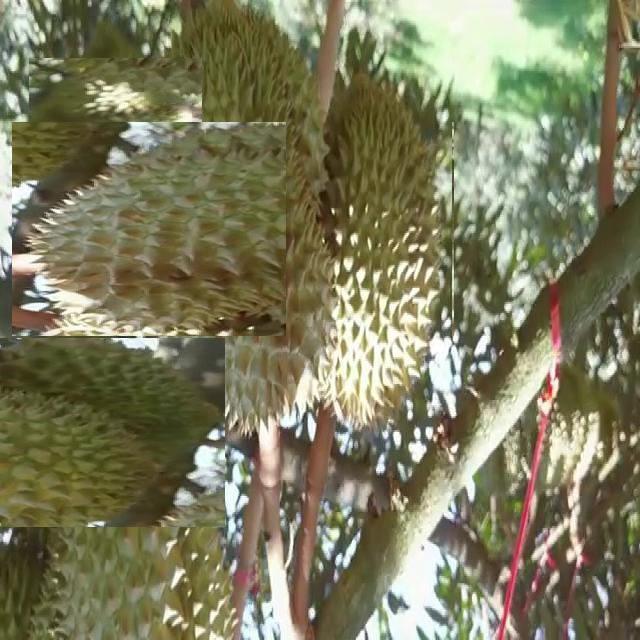durian: (69, 65, 398, 394), (286, 62, 452, 444), (22, 368, 242, 640), (0, 321, 208, 545), (47, 40, 184, 177), (41, 201, 92, 280)
